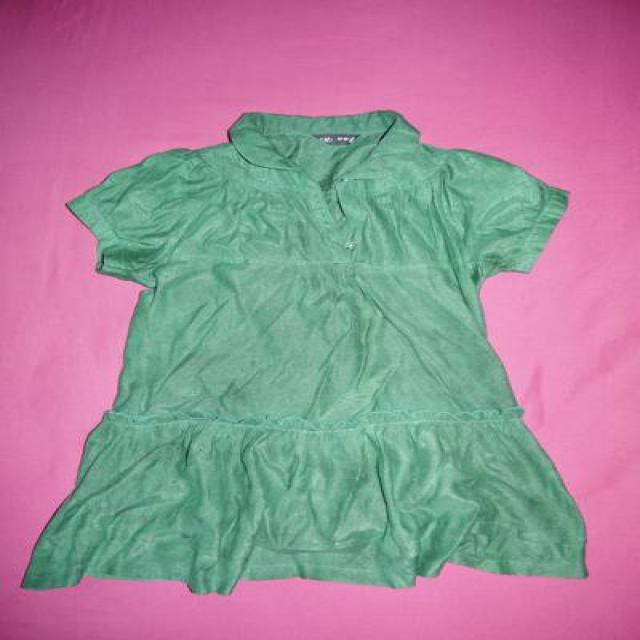Clothes -Biodegradable-: (19, 110, 584, 595)
